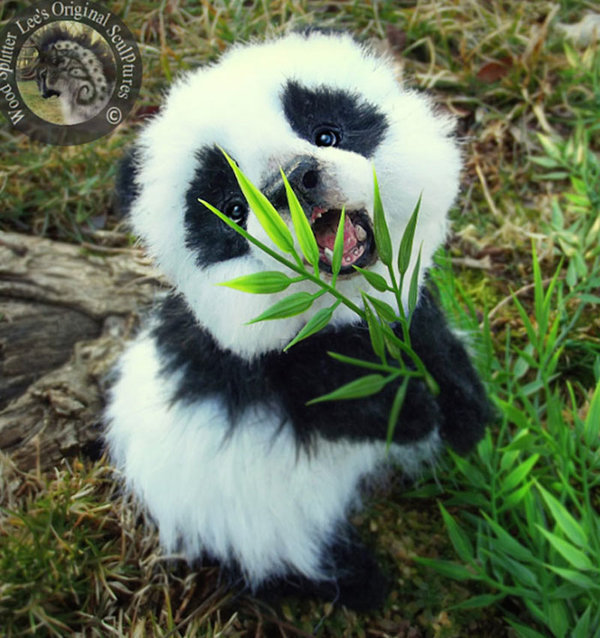panda: (109, 38, 510, 632)
